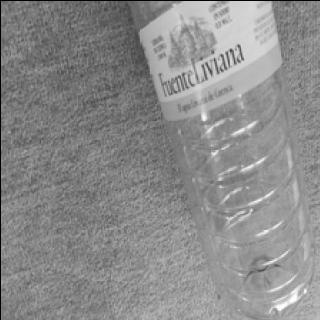plastic_bottles: (132, 0, 314, 318)
